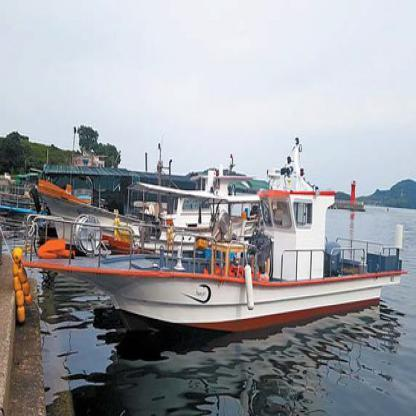Ship: (15, 135, 413, 343)
